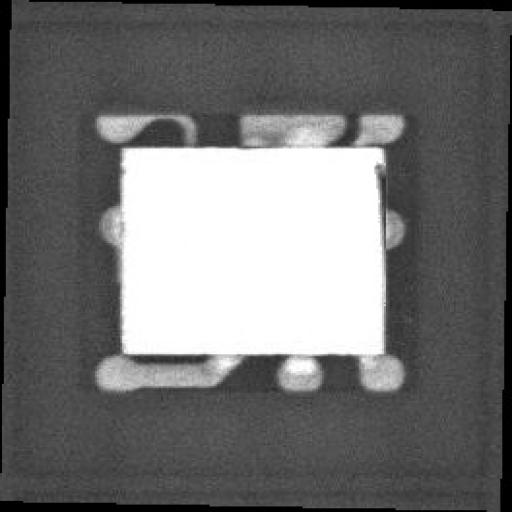DIE_BROKEN: (368, 160, 386, 248)
